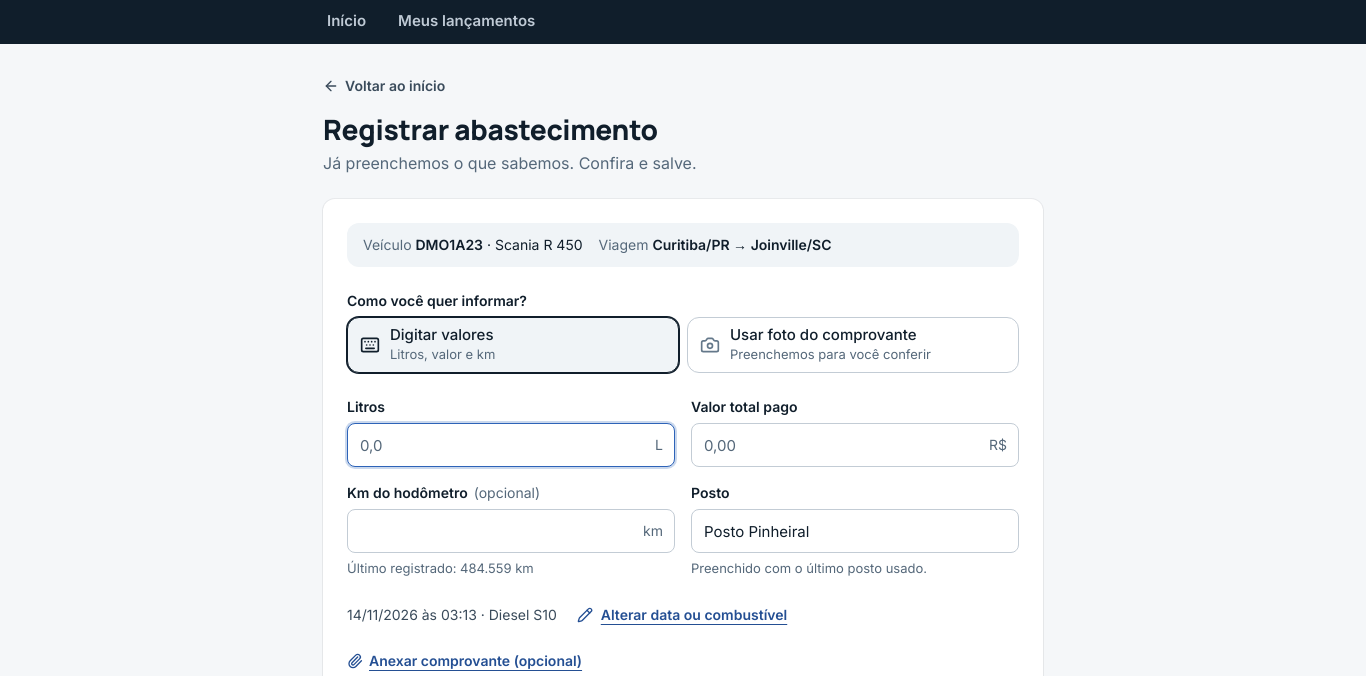
Test: Motorista › leitura de comprovante é simulada, rotulada e exige conferir campos incertos
Click the text "Usar foto do comprovante" at (830, 335), box 730,326 -> 931,345
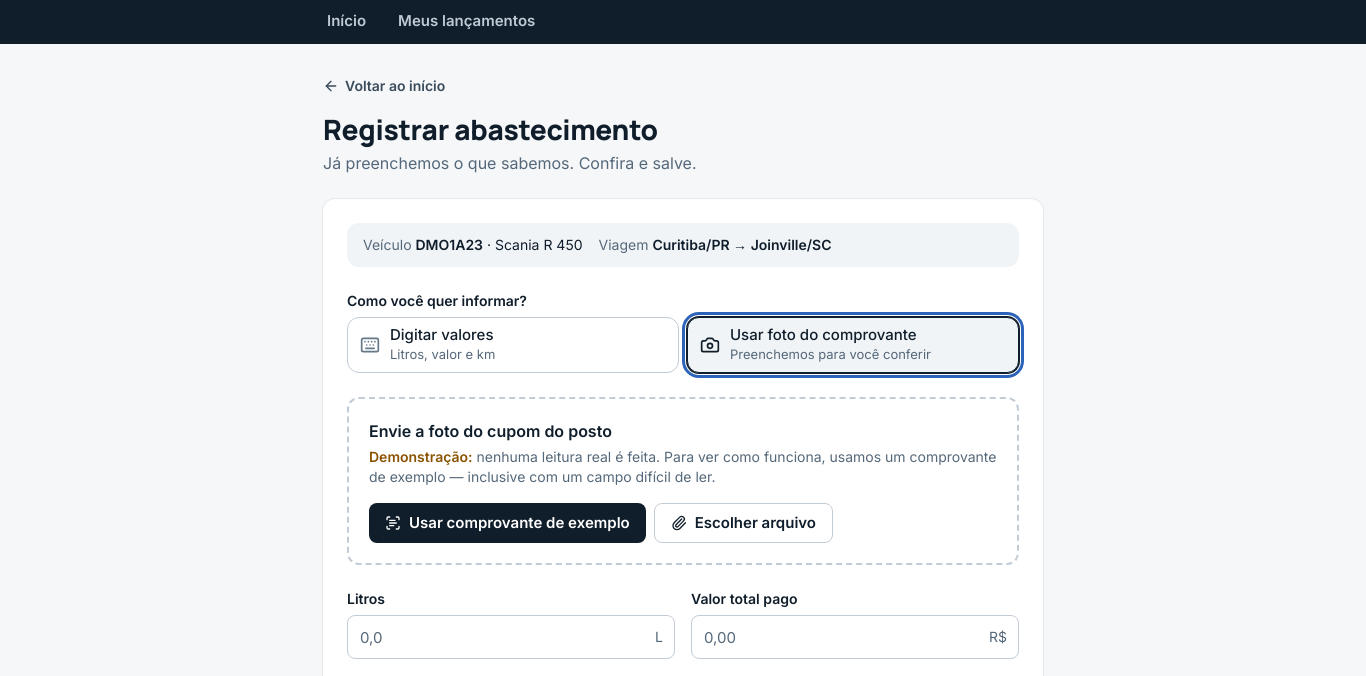
Click the button "Usar comprovante de exemplo" at (507, 523), box 369,503 -> 646,543
(page scrolled)
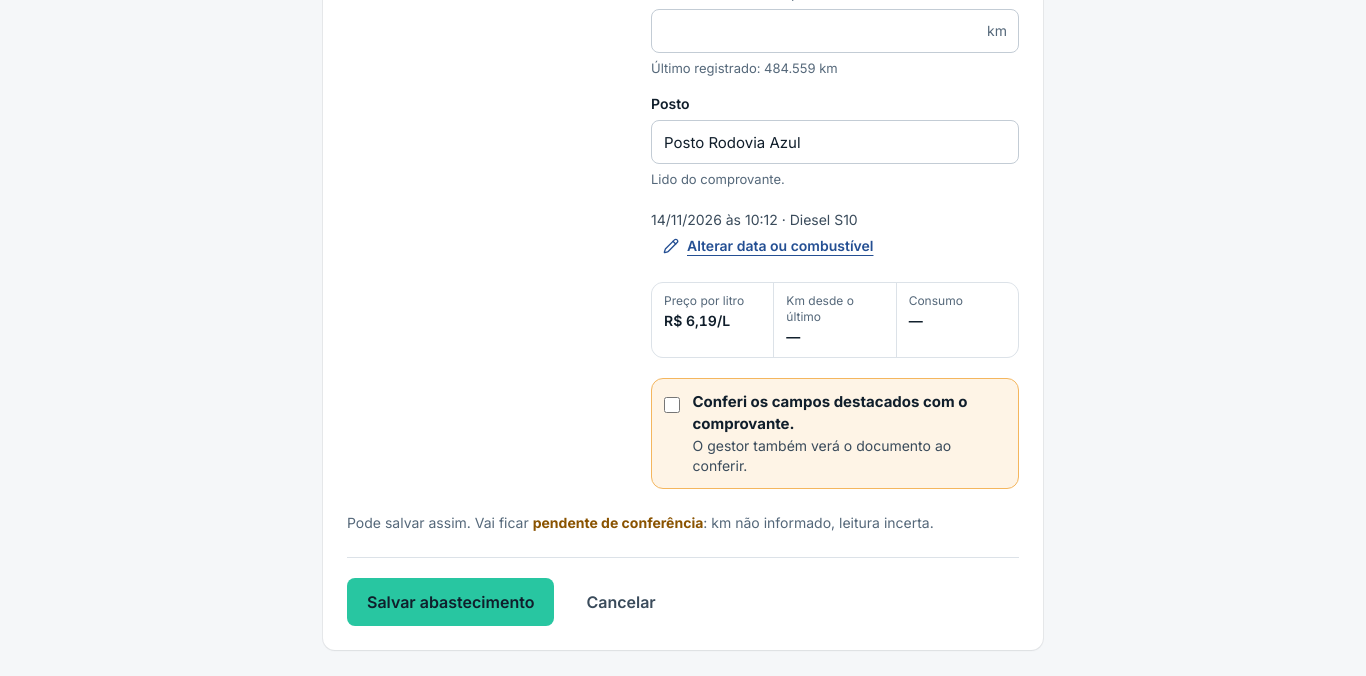
Click the button "Salvar abastecimento" at (451, 602), box 347,578 -> 554,626
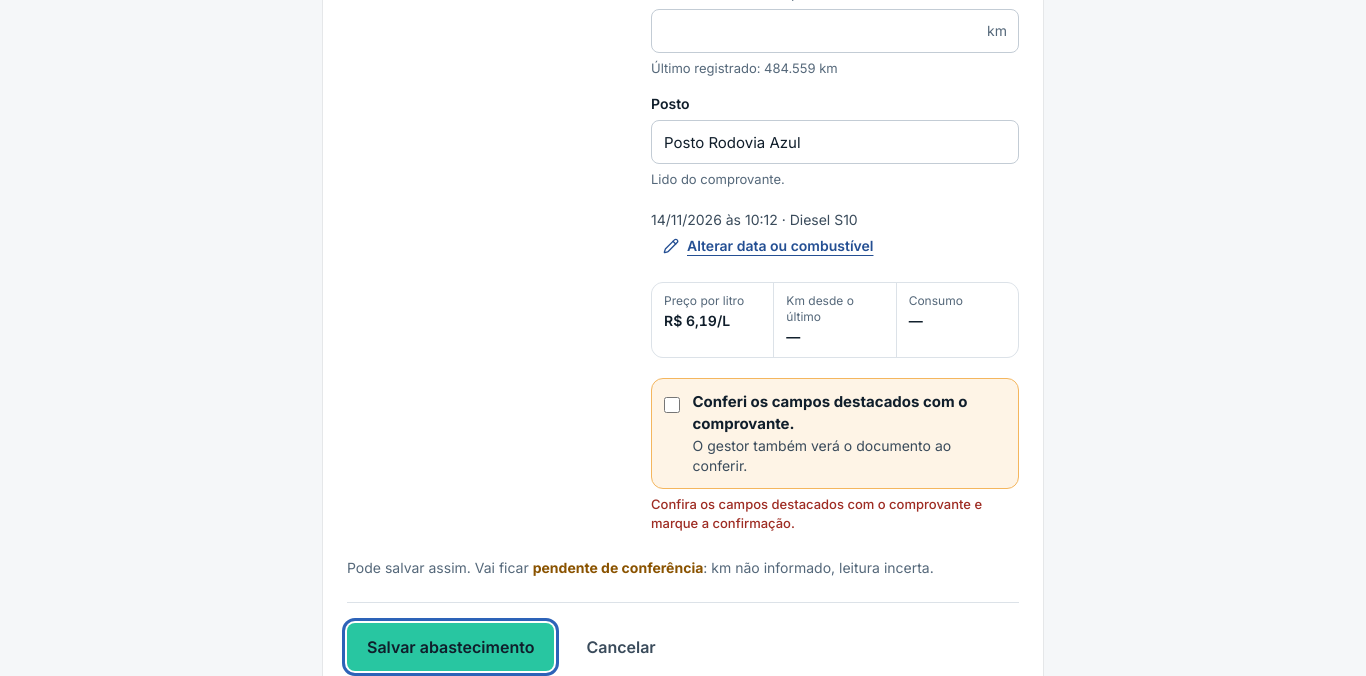
Expected: the text "Confira os campos destacados" is shown, 651,496 -> 982,531
Click the checkbox labelled "Conferi os campos destacados" at (672, 405), box 664,395 -> 680,415
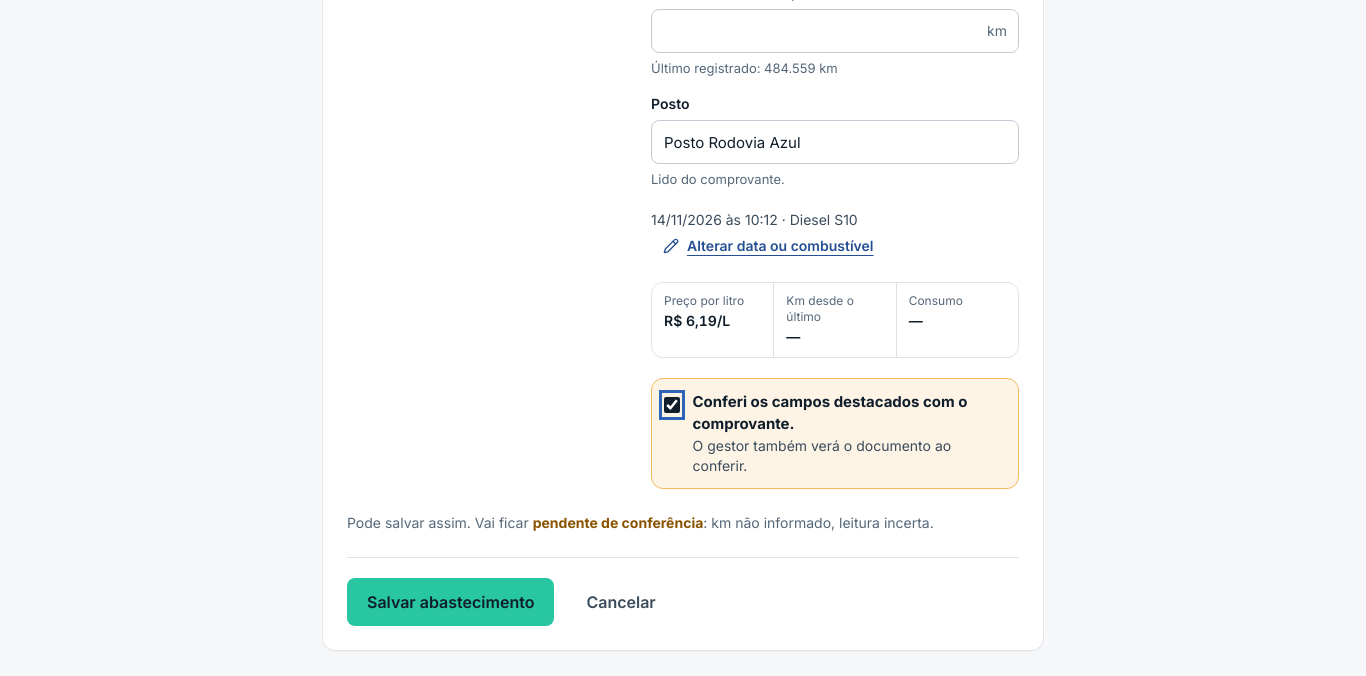
Click the button "Salvar abastecimento" at (451, 602), box 347,578 -> 554,626
(page scrolled)
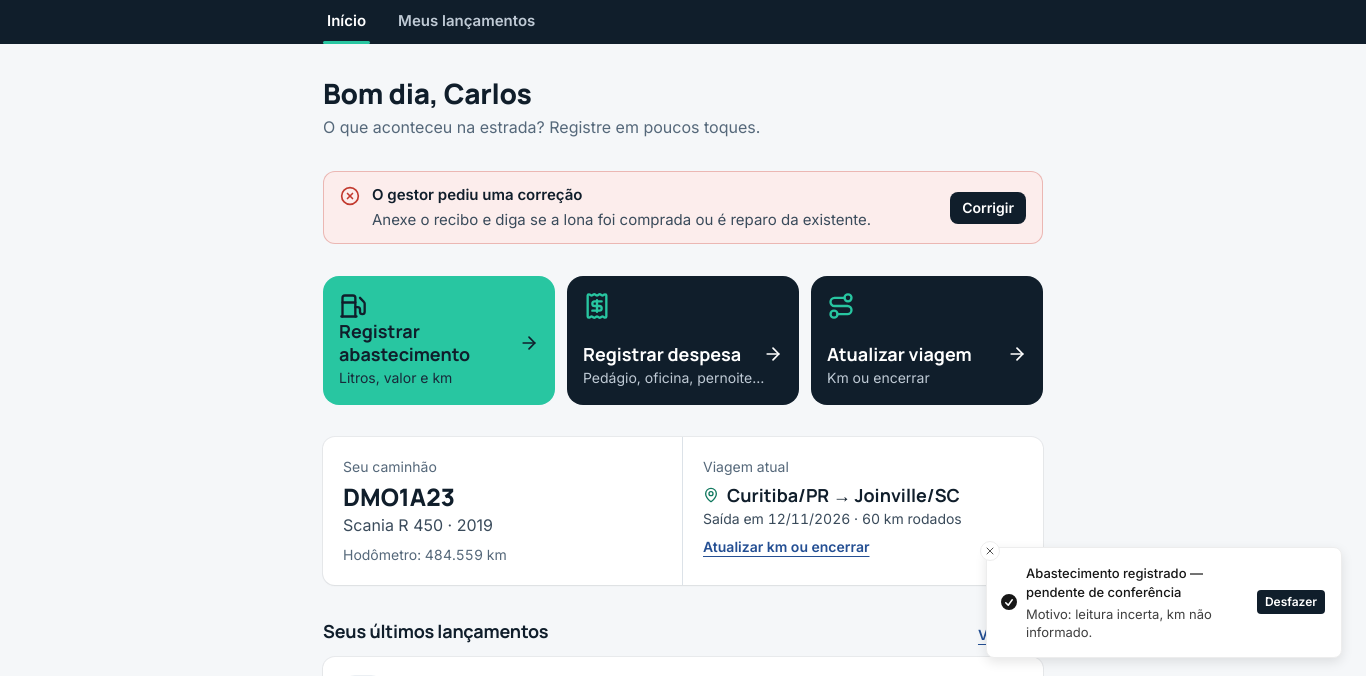
Expected: the text "Abastecimento registrado — pendente de conferência" is shown, 1026,565 -> 1203,600
